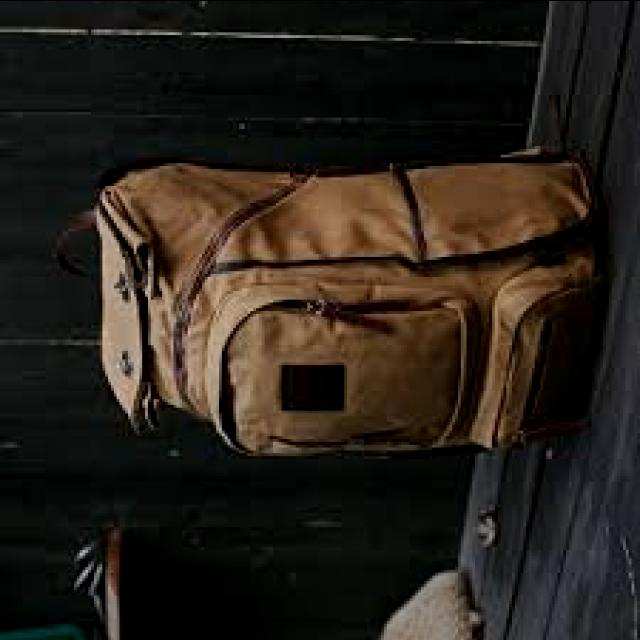backpack: (53, 149, 607, 462)
